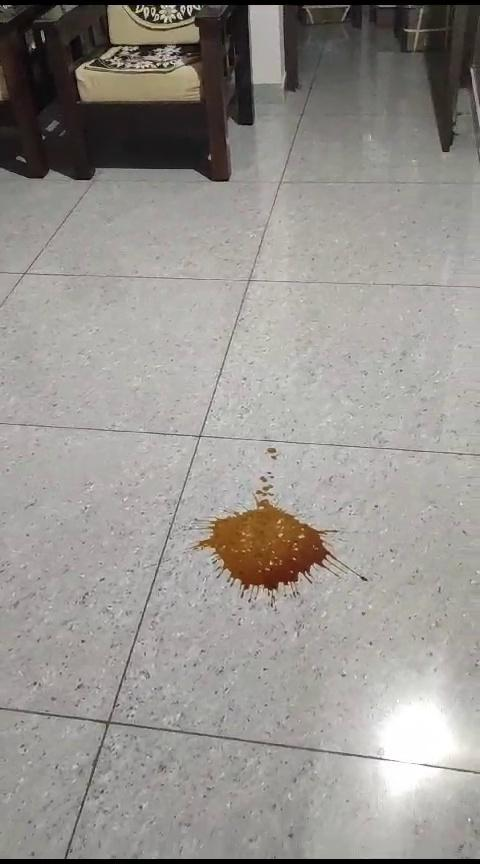dirty_floor: (188, 444, 370, 603)
